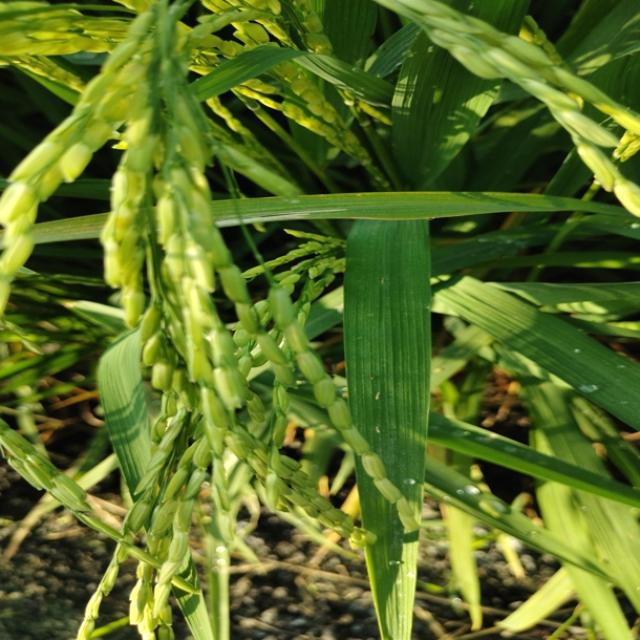Bacterial leaf blight: (214, 209, 352, 228)
